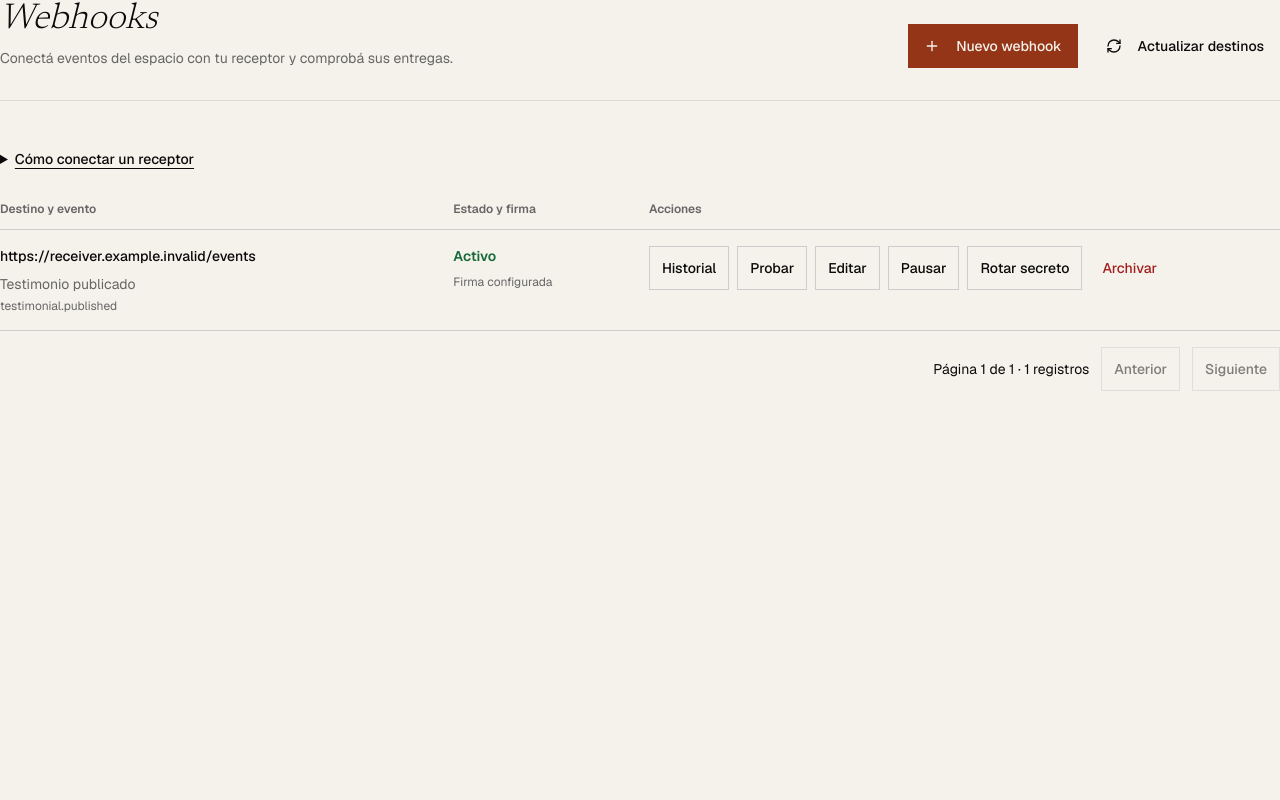
Scenario: webhooks usa la confirmación activa y sólo muta después de confirmar
Step 1. Click the button with aria-label "Archivar webhook https://receiver.example.invalid/events" → (1130, 268), box [1090,246,1169,290]
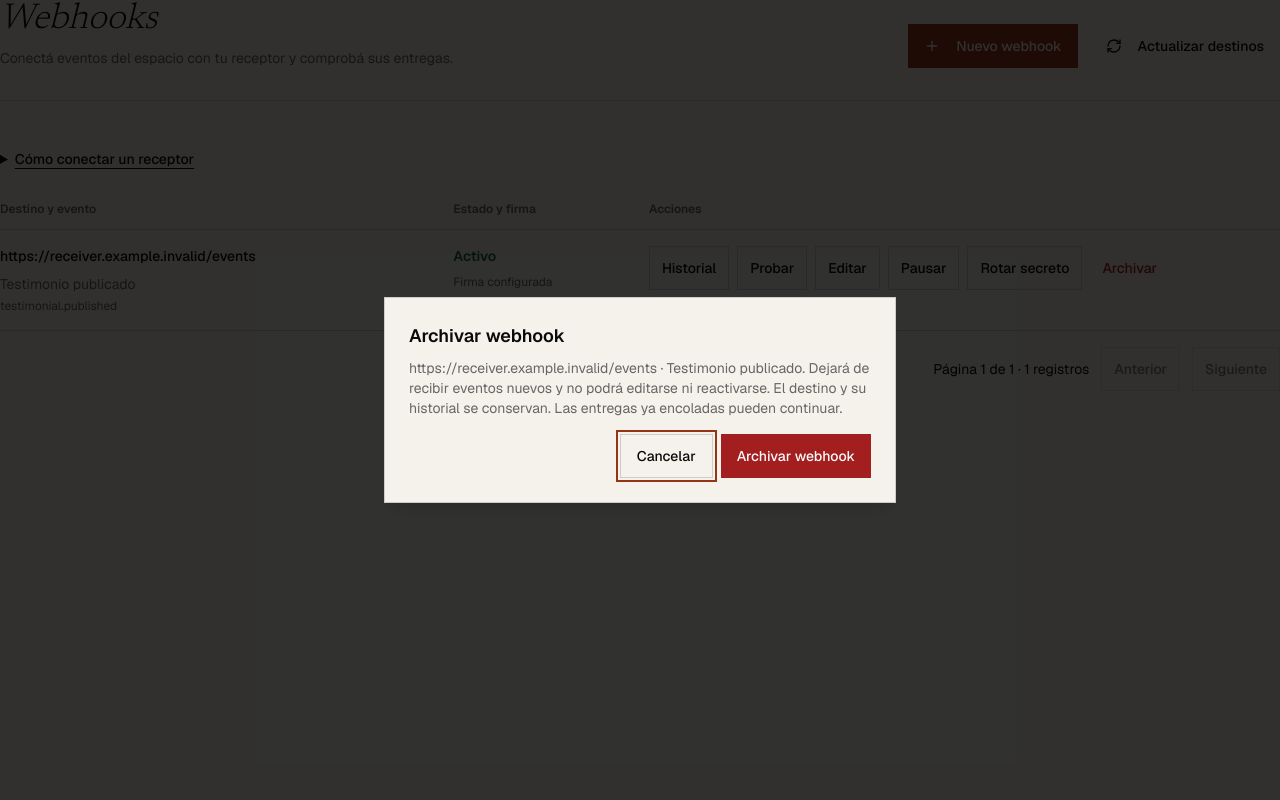
expect the dialog shows "receiver.example.invalid": met, box [409,359,869,417]
Step 2. Click the button "Cancelar" → (666, 456), box [620,434,713,478]
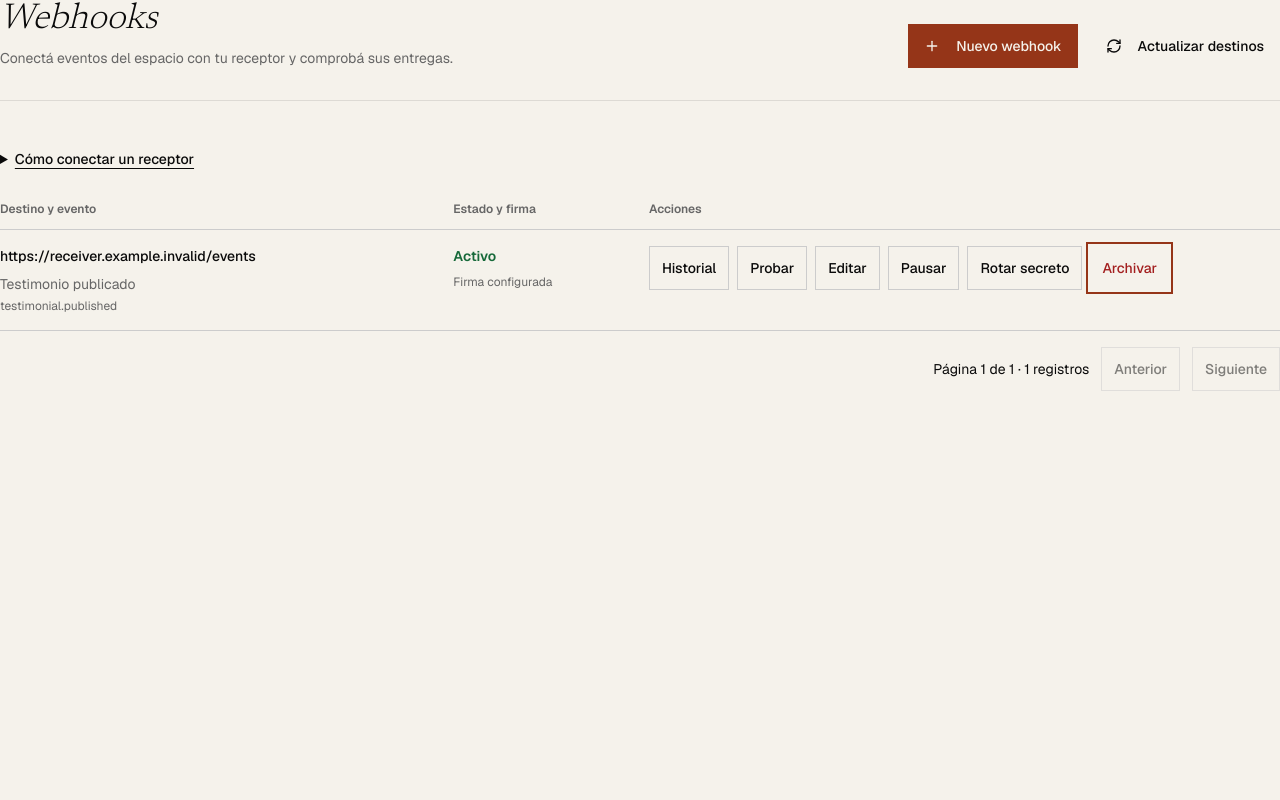
Step 3. Click the button with aria-label "Archivar webhook https://receiver.example.invalid/events" → (1130, 268), box [1090,246,1169,290]
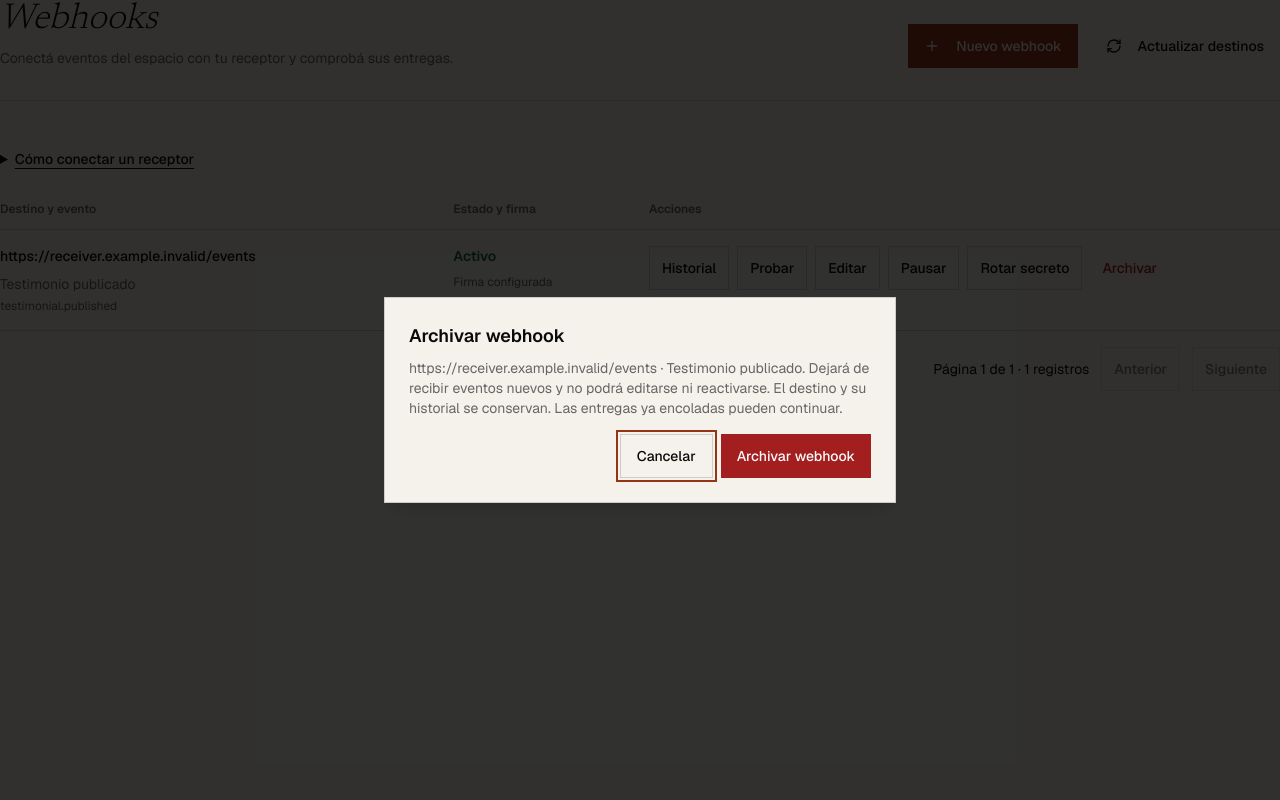
Step 4. Click the button "Archivar webhook" → (796, 456), box [721,434,871,478]
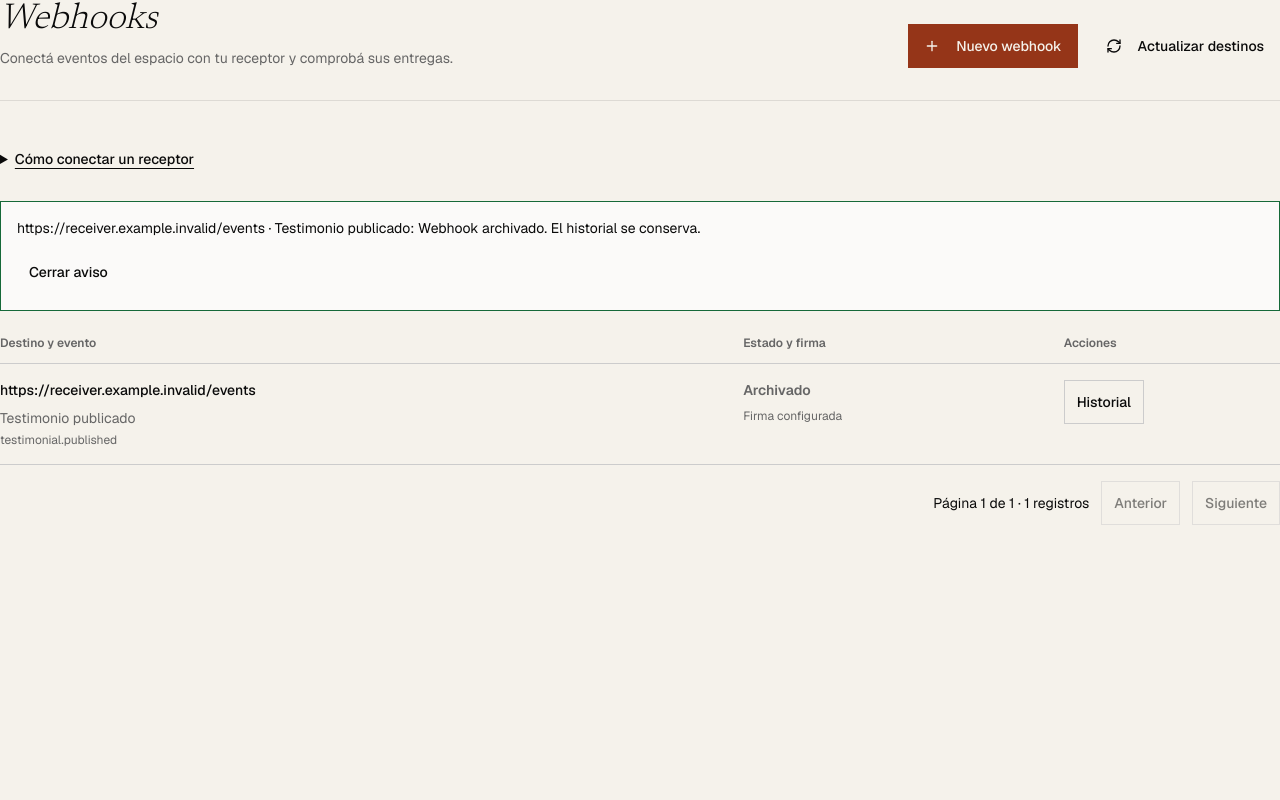
expect the text "Archivado" is shown: met, box [743,381,811,399]
